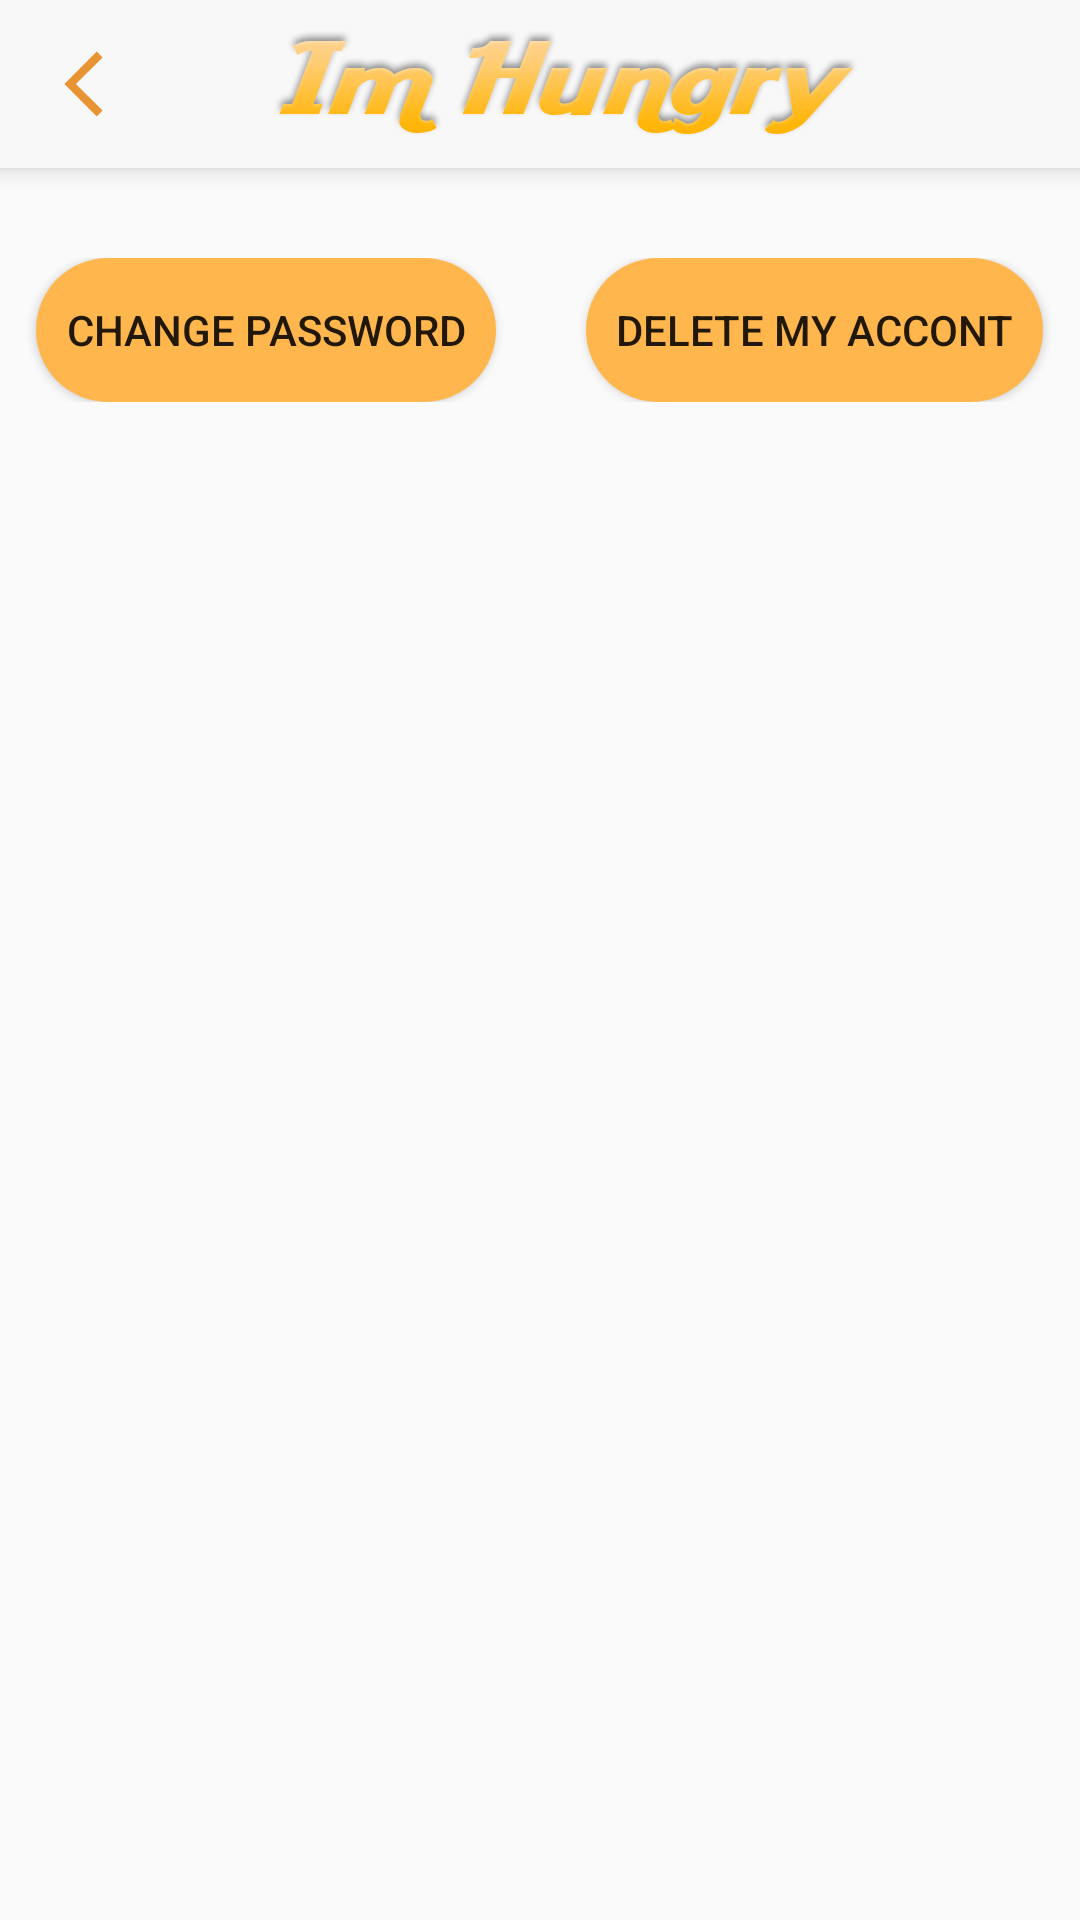

Screen size 1080px×1920px. Icon name, then its center in pixels as (x=x, y=y):
back: (x=83, y=84)
